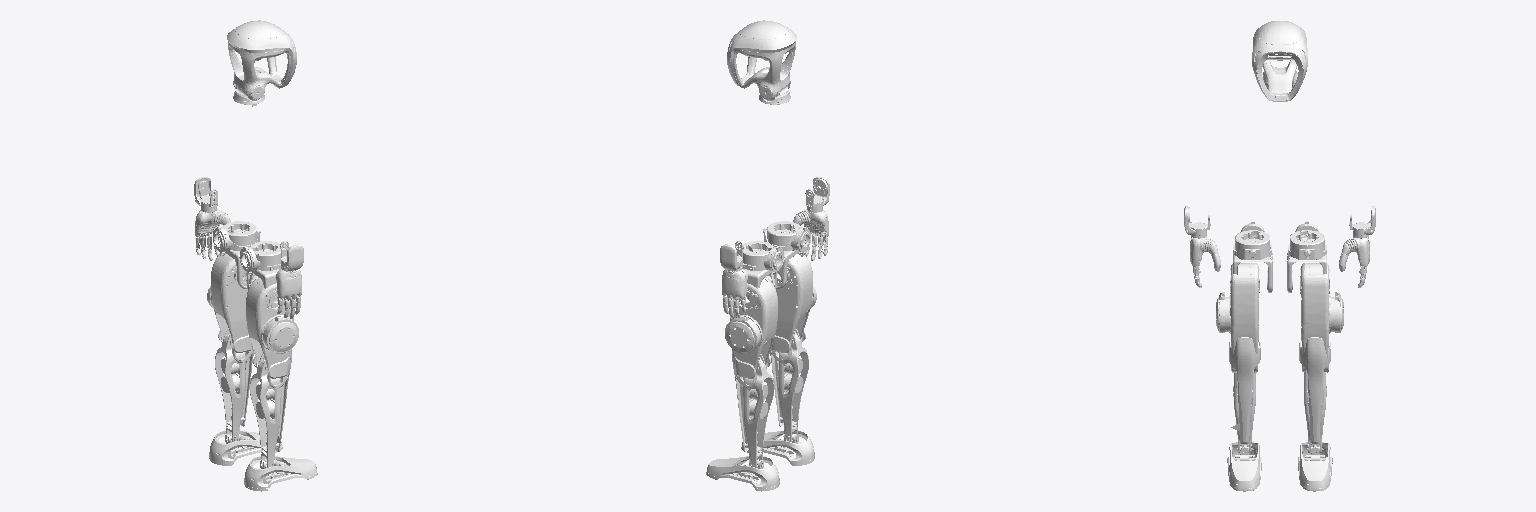
--- Facts derived from the render (not from the file) ---
3 views of the same robot in one strip: view 1: azimuth 30°, elevation 25°; view 2: azimuth 150°, elevation 25°; view 3: azimuth 270°, elevation 25° (orthographic).
Robot: biped_s40 — 46 links, 45 joints (28 revolute, 17 fixed); root link dummy_link; default pose: every joint at zero.
Visible links, largest first — view 1: zhead_2_link, leg_r3_link, leg_r4_link, leg_l4_link, leg_l3_link, leg_r6_link, zarm_l6_link, zarm_r6_link, leg_l6_link, leg_l1_link, leg_r1_link; view 2: zhead_2_link, leg_l3_link, leg_l4_link, leg_r4_link, leg_r3_link, leg_l6_link, zarm_r6_link, zarm_l6_link, leg_r6_link, leg_r1_link, leg_l1_link; view 3: zhead_2_link, leg_r3_link, leg_l3_link, leg_r4_link, leg_l4_link, leg_l6_link, leg_r6_link, zarm_r6_link, zarm_l6_link, leg_r1_link, leg_l1_link.
Boxes of the visible links, x1,y1,x2,y2 form: zhead_2_link: (227,20,296,100); leg_r3_link: (246,277,298,387); leg_r4_link: (250,354,291,467); leg_l4_link: (215,328,253,441); leg_l3_link: (207,253,252,362); leg_r6_link: (244,456,317,491); zarm_l6_link: (194,177,230,260); zarm_r6_link: (276,241,303,318); leg_l6_link: (209,431,282,465); leg_l1_link: (213,221,260,252); leg_r1_link: (240,241,281,271); zhead_2_link: (727,20,796,100); leg_l3_link: (725,277,777,388); leg_l4_link: (732,354,773,467); leg_r4_link: (770,328,808,441); leg_r3_link: (771,253,816,362); leg_l6_link: (706,456,779,491); zarm_r6_link: (793,177,829,260); zarm_l6_link: (720,241,747,318); leg_r6_link: (741,431,814,465); leg_r1_link: (763,221,810,252); leg_l1_link: (739,241,783,271); zhead_2_link: (1252,21,1307,101); leg_r3_link: (1216,263,1259,372); leg_l3_link: (1300,263,1343,372); leg_r4_link: (1229,337,1260,452); leg_l4_link: (1299,337,1330,452); leg_l6_link: (1298,442,1332,491); leg_r6_link: (1227,442,1261,491); zarm_r6_link: (1184,206,1220,287); zarm_l6_link: (1339,206,1375,287); leg_r1_link: (1233,221,1271,259); leg_l1_link: (1288,221,1326,259).
Bounding box of the posed robot: 0.2541 × 0.6121 × 1.57 m (x, y, z).
Meshes: 31 distinct files referenced, 16 mesh visuals loaded (16 binary STL); not drawn: 15 (reference not matched to a file when rendering).

The robot description file, URDF, robot "biped_s40":
<?xml version='1.0' encoding='utf-8'?>
<robot name="biped_s40">
  <mujoco>
    <compiler meshdir="../meshes/" balanceinertia="true" discardvisual="false" />
  </mujoco>
  <link name="dummy_link" />
  <link name="base_link">
    <inertial>
      <origin xyz="-0.00505 0.0014 0.18077" rpy="0 0 0" />
      <mass value="22.6719" />
      <inertia ixx="0.28214" ixy="3e-05" ixz="0.01114" iyy="0.20534" iyz="0.00044" izz="0.13735" />
    </inertial>
    <visual>
      <origin xyz="0 0 0" rpy="0 0 0" />
      <geometry>
        <mesh filename="package://kuavo_assets/models/biped_s40/meshes/base_link.STL" />
      </geometry>
      <material name="">
        <color rgba="1 1 1 1" />
      </material>
    </visual>
  </link>
  <joint name="dummy_to_base_link" type="fixed">
    <origin xyz="0 0 0" rpy="0 0 0" />
    <parent link="dummy_link" />
    <child link="base_link" />
    <dynamics damping="0.2" friction="0.0"/>
  </joint>
  <link name="leg_l1_link">
    <inertial>
      <origin xyz="-0.00624961 -5.6e-06 -0.00874166" rpy="0 0 0" />
      <mass value="1.79206533" />
      <inertia ixx="0.00211603" ixy="7.6e-07" ixz="0.000107" iyy="0.00302948" iyz="4.73e-06" izz="0.00399385" />
    </inertial>
    <visual>
      <origin xyz="0 0 0" rpy="0 0 0" />
      <geometry>
        <mesh filename="package://kuavo_assets/models/biped_s40/meshes/l_leg_roll.STL" />
      </geometry>
      <material name="">
        <color rgba="1 1 1 1" />
      </material>
    </visual>
  </link>
  <joint name="leg_l1_joint" type="revolute">
    <origin xyz="-0.0025 0.087 -0.066" rpy="0 0 0" />
    <parent link="base_link" />
    <child link="leg_l1_link" />
    <axis xyz="1 0 0" />
    <limit lower="-0.314159265358979" upper="0.663225115757845" effort="180.0" velocity="23.55" />
    <dynamics damping="0.2" friction="0.0"/>
  </joint>
  <link name="leg_l2_link">
    <inertial>
      <origin xyz="4.471e-05 0.04985881 -0.11682314" rpy="0 0 0" />
      <mass value="1.67630577" />
      <inertia ixx="0.00548763" ixy="-2.73e-06" ixz="-9.2e-07" iyy="0.0041542" iyz="0.00050833" izz="0.00426092" />
    </inertial>
    <visual>
      <origin xyz="0 0 0" rpy="0 0 0" />
      <geometry>
        <mesh filename="package://kuavo_assets/models/biped_s40/meshes/l_leg_yaw.STL" />
      </geometry>
      <material name="">
        <color rgba="1 1 1 1" />
      </material>
    </visual>
  </link>
  <joint name="leg_l2_joint" type="revolute">
    <origin xyz="0 0 0" rpy="0 0 0" />
    <parent link="leg_l1_link" />
    <child link="leg_l2_link" />
    <axis xyz="0 0 1" />
    <limit lower="-1.0471975511966" upper="0.523598775598299" effort="100.0" velocity="41.3433333333333" />
    <dynamics damping="0.5" friction="0.0"/>
  </joint>
  <link name="leg_l3_link">
    <inertial>
      <origin xyz="-0.00238348 -0.02309435 -0.06304956" rpy="0 0 0" />
      <mass value="2.46847" />
      <inertia ixx="0.02435272" ixy="4.518e-05" ixz="0.00123822" iyy="0.02479772" iyz="0.00261624" izz="0.00478829" />
    </inertial>
    <visual>
      <origin xyz="0 0 0" rpy="0 0 0" />
      <geometry>
        <mesh filename="package://kuavo_assets/models/biped_s40/meshes/l_leg_pitch.STL" />
      </geometry>
      <material name="">
        <color rgba="1 1 1 1" />
      </material>
    </visual>
  </link>
  <joint name="leg_l3_joint" type="revolute">
    <origin xyz="0 0.02545000000000 -0.1287" rpy="0 0 0" />
    <parent link="leg_l2_link" />
    <child link="leg_l3_link" />
    <axis xyz="0 1 0" />
    <limit lower="-1.83259571459405" upper="1.0471975511966" effort="100.0" velocity="41.3433333333333" />
    <dynamics damping="0.2" friction="0.0"/>
  </joint>
  <link name="leg_l4_link">
    <inertial>
      <origin xyz="0.00304104 -4.1e-05 -0.12213928" rpy="0 0 0" />
      <mass value="1.86452506" />
      <inertia ixx="0.01537791" ixy="7.85e-06" ixz="-0.00010781" iyy="0.01559985" iyz="-0.00015323" izz="0.00123021" />
    </inertial>
    <visual>
      <origin xyz="0 0 0" rpy="0 0 0" />
      <geometry>
        <mesh filename="package://kuavo_assets/models/biped_s40/meshes/l_knee.STL" />
      </geometry>
      <material name="">
        <color rgba="1 1 1 1" />
      </material>
    </visual>
  </link>
  <joint name="leg_l4_joint" type="revolute">
    <origin xyz="-0.010390161952608 0 -0.249783995753446" rpy="0 0 0" />
    <parent link="leg_l3_link" />
    <child link="leg_l4_link" />
    <axis xyz="0 1 0" />
    <limit lower="0.0" upper="2.18166156499291" effort="100.0" velocity="41.3433333333333" />
    <dynamics damping="0.2" friction="0.0"/>
  </joint>
  <link name="leg_l5_link">
    <inertial>
      <origin xyz="0.0 0.0 0.0" rpy="0 0 0" />
      <mass value="0.06923929" />
      <inertia ixx="6.66e-04" ixy="0.0" ixz="0.0" iyy="6.66e-04" iyz="0.0" izz="1.172e-04" />
    </inertial>
    <visual>
      <origin xyz="0 0 0" rpy="0 0 0" />
      <geometry>
        <mesh filename="package://kuavo_assets/models/biped_s40/meshes/l_foot_pitch.STL" />
      </geometry>
      <material name="">
        <color rgba="1 1 1 1" />
      </material>
    </visual>
  </link>
  <joint name="leg_l5_joint" type="revolute">
    <origin xyz="0 0 -0.346000000000004" rpy="0 0 0" />
    <parent link="leg_l4_link" />
    <child link="leg_l5_link" />
    <axis xyz="0 1 0" />
    <limit lower="-0.610865238198015" upper="0.523598775598299" effort="36.0" velocity="23.0266666666667" />
    <dynamics damping="0.2" friction="0.0"/>
  </joint>
  <link name="leg_l6_link">
    <inertial>
      <origin xyz="-0.00987056 -7.58e-06 -0.03365514" rpy="0 0 0" />
      <mass value="0.58358325" />
      <inertia ixx="0.0006342" ixy="1.4e-07" ixz="0.00031564" iyy="0.00227317" iyz="-2e-08" izz="0.00239382" />
    </inertial>
    <visual>
      <origin xyz="0 0 0" rpy="0 0 0" />
      <geometry>
        <mesh filename="package://kuavo_assets/models/biped_s40/meshes/l_foot_roll.STL" />
      </geometry>
      <material name="">
        <color rgba="1 1 1 1" />
      </material>
    </visual>
  </link>
  <joint name="leg_l6_joint" type="revolute">
    <origin xyz="0 0 0" rpy="0 0 0" />
    <parent link="leg_l5_link" />
    <child link="leg_l6_link" />
    <axis xyz="1 0 0" />
    <limit lower="-0.349065850398866" upper="0.349065850398866" effort="36.0" velocity="23.0266666666667" />
    <dynamics damping="0.2" friction="0.0"/>
  </joint>
  <link name="ll_foot_toe">
    <collision>
      <origin rpy="0 0 0" xyz="0 0 0" />
      <geometry>
        <sphere radius="0.005" />
      </geometry>
    </collision>
  </link>
  <joint name="ll_foot_toe_joint" type="fixed">
    <origin xyz="0.142507 0.04773 -0.0595" rpy="0 0 0" />
    <parent link="leg_l6_link" />
    <child link="ll_foot_toe" />
    <dynamics damping="0.2" friction="0.0"/>
  </joint>
  <link name="ll_foot_heel">
    <collision>
      <origin rpy="0 0 0" xyz="0 0 0" />
      <geometry>
        <sphere radius="0.005" />
      </geometry>
    </collision>
  </link>
  <joint name="ll_foot_heel_joint" type="fixed">
    <origin xyz="-0.10149 0.04773 -0.0595" rpy="0 0 0" />
    <parent link="leg_l6_link" />
    <child link="ll_foot_heel" />
    <dynamics damping="0.2" friction="0.0"/>
  </joint>
  <link name="lr_foot_toe">
    <collision>
      <origin rpy="0 0 0" xyz="0 0 0" />
      <geometry>
        <sphere radius="0.005" />
      </geometry>
    </collision>
  </link>
  <joint name="lr_foot_toe_joint" type="fixed">
    <origin xyz="0.142507 -0.04773 -0.0595" rpy="0 0 0" />
    <parent link="leg_l6_link" />
    <child link="lr_foot_toe" />
    <dynamics damping="0.2" friction="0.0"/>
  </joint>
  <link name="lr_foot_heel">
    <collision>
      <origin rpy="0 0 0" xyz="0 0 0" />
      <geometry>
        <sphere radius="0.005" />
      </geometry>
    </collision>
  </link>
  <joint name="lr_foot_heel_joint" type="fixed">
    <origin xyz="-0.10149 -0.04773 -0.0595" rpy="0 0 0" />
    <parent link="leg_l6_link" />
    <child link="lr_foot_heel" />
    <dynamics damping="0.2" friction="0.0"/>
  </joint>
  <link name="l_foot_toe">
    <collision>
      <origin rpy="0 0 0" xyz="0 0 0" />
      <geometry>
        <sphere radius="0.005" />
      </geometry>
    </collision>
  </link>
  <joint name="l_foot_toe_joint" type="fixed">
    <origin xyz="0.142507 0.0 -0.0595" rpy="0 0 0" />
    <parent link="leg_l6_link" />
    <child link="l_foot_toe" />
    <dynamics damping="0.2" friction="0.0"/>
  </joint>
  <link name="l_foot_heel">
    <collision>
      <origin rpy="0 0 0" xyz="0 0 0" />
      <geometry>
        <sphere radius="0.005" />
      </geometry>
    </collision>
  </link>
  <joint name="l_foot_heel_joint" type="fixed">
    <origin xyz="-0.10149 0.0 -0.0595" rpy="0 0 0" />
    <parent link="leg_l6_link" />
    <child link="l_foot_heel" />
    <dynamics damping="0.2" friction="0.0"/>
  </joint>
  <link name="leg_r1_link">
    <inertial>
      <origin xyz="-0.00624961 5.65e-06 -0.00874165" rpy="0 0 0" />
      <mass value="1.79206572" />
      <inertia ixx="0.00211603" ixy="-7.6e-07" ixz="0.000107" iyy="0.00302948" iyz="-4.73e-06" izz="0.00399385" />
    </inertial>
    <visual>
      <origin xyz="0 0 0" rpy="0 0 0" />
      <geometry>
        <mesh filename="package://kuavo_assets/models/biped_s40/meshes/r_leg_roll.STL" />
      </geometry>
      <material name="">
        <color rgba="1 1 1 1" />
      </material>
    </visual>
  </link>
  <joint name="leg_r1_joint" type="revolute">
    <origin xyz="-0.0025 -0.087 -0.066" rpy="0 0 0" />
    <parent link="base_link" />
    <child link="leg_r1_link" />
    <axis xyz="1 0 0" />
    <limit lower="-0.663225115757845" upper="0.314159265358979" effort="180.0" velocity="23.55" />
    <dynamics damping="0.2" friction="0.0"/>
  </joint>
  <link name="leg_r2_link">
    <inertial>
      <origin xyz="4.471e-05 -0.04985878 -0.11682313" rpy="0 0 0" />
      <mass value="1.67630636" />
      <inertia ixx="0.00548764" ixy="2.73e-06" ixz="-9.2e-07" iyy="0.00415421" iyz="-0.00050832" izz="0.00426093" />
    </inertial>
    <visual>
      <origin xyz="0 0 0" rpy="0 0 0" />
      <geometry>
        <mesh filename="package://kuavo_assets/models/biped_s40/meshes/r_leg_yaw.STL" />
      </geometry>
      <material name="">
        <color rgba="1 1 1 1" />
      </material>
    </visual>
  </link>
  <joint name="leg_r2_joint" type="revolute">
    <origin xyz="0 0 0" rpy="0 0 0" />
    <parent link="leg_r1_link" />
    <child link="leg_r2_link" />
    <axis xyz="0 0 1" />
    <limit lower="-0.523598775598299" upper="1.0471975511966" effort="100.0" velocity="41.3433333333333" />
    <dynamics damping="0.5" friction="0.0"/>
  </joint>
  <link name="leg_r3_link">
    <inertial>
      <origin xyz="-0.00238153 0.02309009 -0.06305853" rpy="0 0 0" />
      <mass value="2.46916674" />
      <inertia ixx="0.02435155" ixy="-4.518e-05" ixz="0.00123747" iyy="0.02479853" iyz="-0.00261573" izz="0.0047908" />
    </inertial>
    <visual>
      <origin xyz="0 0 0" rpy="0 0 0" />
      <geometry>
        <mesh filename="package://kuavo_assets/models/biped_s40/meshes/r_leg_pitch.STL" />
      </geometry>
      <material name="">
        <color rgba="1 1 1 1" />
      </material>
    </visual>
  </link>
  <joint name="leg_r3_joint" type="revolute">
    <origin xyz="0 -0.02545000000000 -0.1287" rpy="0 0 0" />
    <parent link="leg_r2_link" />
    <child link="leg_r3_link" />
    <axis xyz="0 1 0" />
    <limit lower="-1.83259571459405" upper="1.0471975511966" effort="100.0" velocity="41.3433333333333" />
    <dynamics damping="0.2" friction="0.0"/>
  </joint>
  <link name="leg_r4_link">
    <inertial>
      <origin xyz="0.00304109 4.102e-05 -0.12213983" rpy="0 0 0" />
      <mass value="1.86454133" />
      <inertia ixx="0.01537809" ixy="-7.85e-06" ixz="-0.00010779" iyy="0.01560001" iyz="0.00015322" izz="0.00123022" />
    </inertial>
    <visual>
      <origin xyz="0 0 0" rpy="0 0 0" />
      <geometry>
        <mesh filename="package://kuavo_assets/models/biped_s40/meshes/r_knee.STL" />
      </geometry>
      <material name="">
        <color rgba="1 1 1 1" />
      </material>
    </visual>
  </link>
  <joint name="leg_r4_joint" type="revolute">
    <origin xyz="-0.0103901619526017 0 -0.249783995753447" rpy="0 0 0" />
    <parent link="leg_r3_link" />
    <child link="leg_r4_link" />
    <axis xyz="0 1 0" />
    <limit lower="0.0" upper="2.18166156499291" effort="100.0" velocity="41.3433333333333" />
    <dynamics damping="0.2" friction="0.0"/>
  </joint>
  <link name="leg_r5_link">
    <inertial>
      <origin xyz="0.0 0.0 0.0" rpy="0 0 0" />
      <mass value="0.06923929" />
      <inertia ixx="6.66e-04" ixy="0.0" ixz="0.0" iyy="6.66e-04" iyz="0.0" izz="1.172e-04" />
    </inertial>
    <visual>
      <origin xyz="0 0 0" rpy="0 0 0" />
      <geometry>
        <mesh filename="package://kuavo_assets/models/biped_s40/meshes/r_foot_pitch.STL" />
      </geometry>
      <material name="">
        <color rgba="1 1 1 1" />
      </material>
    </visual>
  </link>
  <joint name="leg_r5_joint" type="revolute">
    <origin xyz="0 0 -0.346000000000011" rpy="0 0 0" />
    <parent link="leg_r4_link" />
    <child link="leg_r5_link" />
    <axis xyz="0 1 0" />
    <limit lower="-0.523598775598299" upper="0.523598775598299" effort="36.0" velocity="23.0266666666667" />
    <dynamics damping="0.2" friction="0.0"/>
  </joint>
  <link name="leg_r6_link">
    <inertial>
      <origin xyz="-0.00987049 7.65e-06 -0.03365512" rpy="0 0 0" />
      <mass value="0.58358273" />
      <inertia ixx="0.0006342" ixy="-1.4e-07" ixz="0.00031564" iyy="0.00227317" iyz="2e-08" izz="0.00239382" />
    </inertial>
    <visual>
      <origin xyz="0 0 0" rpy="0 0 0" />
      <geometry>
        <mesh filename="package://kuavo_assets/models/biped_s40/meshes/r_foot_roll.STL" />
      </geometry>
      <material name="">
        <color rgba="1 1 1 1" />
      </material>
    </visual>
  </link>
  <joint name="leg_r6_joint" type="revolute">
    <origin xyz="0 0 0" rpy="0 0 0" />
    <parent link="leg_r5_link" />
    <child link="leg_r6_link" />
    <axis xyz="1 0 0" />
    <limit lower="-0.349065850398866" upper="0.349065850398866" effort="36.0" velocity="23.0266666666667" />
    <dynamics damping="0.2" friction="0.0"/>
  </joint>
  <link name="rl_foot_toe">
    <collision>
      <origin rpy="0 0 0" xyz="0 0 0" />
      <geometry>
        <sphere radius="0.005" />
      </geometry>
    </collision>
  </link>
  <joint name="rl_foot_toe_joint" type="fixed">
    <origin xyz="0.142507 0.04773 -0.0595" rpy="0 0 0" />
    <parent link="leg_r6_link" />
    <child link="rl_foot_toe" />
    <dynamics damping="0.2" friction="0.0"/>
  </joint>
  <link name="rl_foot_heel">
    <collision>
      <origin rpy="0 0 0" xyz="0 0 0" />
      <geometry>
        <sphere radius="0.005" />
      </geometry>
    </collision>
  </link>
  <joint name="rl_foot_heel_joint" type="fixed">
    <origin xyz="-0.10149 0.04773 -0.0595" rpy="0 0 0" />
    <parent link="leg_r6_link" />
    <child link="rl_foot_heel" />
    <dynamics damping="0.2" friction="0.0"/>
  </joint>
  <link name="rr_foot_toe">
    <collision>
      <origin rpy="0 0 0" xyz="0 0 0" />
      <geometry>
        <sphere radius="0.005" />
      </geometry>
    </collision>
  </link>
  <joint name="rr_foot_toe_joint" type="fixed">
    <origin xyz="0.142507 -0.04773 -0.0595" rpy="0 0 0" />
    <parent link="leg_r6_link" />
    <child link="rr_foot_toe" />
    <dynamics damping="0.2" friction="0.0"/>
  </joint>
  <link name="rr_foot_heel">
    <collision>
      <origin rpy="0 0 0" xyz="0 0 0" />
      <geometry>
        <sphere radius="0.005" />
      </geometry>
    </collision>
  </link>
  <joint name="rr_foot_heel_joint" type="fixed">
    <origin xyz="-0.10149 -0.04773 -0.0595" rpy="0 0 0" />
    <parent link="leg_r6_link" />
    <child link="rr_foot_heel" />
    <dynamics damping="0.2" friction="0.0"/>
  </joint>
  <link name="r_foot_toe">
    <collision>
      <origin rpy="0 0 0" xyz="0 0 0" />
      <geometry>
        <sphere radius="0.005" />
      </geometry>
    </collision>
  </link>
  <joint name="r_foot_toe_joint" type="fixed">
    <origin xyz="0.142507 0.0 -0.0595" rpy="0 0 0" />
    <parent link="leg_r6_link" />
    <child link="r_foot_toe" />
    <dynamics damping="0.2" friction="0.0"/>
  </joint>
  <link name="r_foot_heel">
    <collision>
      <origin rpy="0 0 0" xyz="0 0 0" />
      <geometry>
        <sphere radius="0.005" />
      </geometry>
    </collision>
  </link>
  <joint name="r_foot_heel_joint" type="fixed">
    <origin xyz="-0.10149 0.0 -0.0595" rpy="0 0 0" />
    <parent link="leg_r6_link" />
    <child link="r_foot_heel" />
    <dynamics damping="0.2" friction="0.0"/>
  </joint>
  <link name="zarm_l1_link">
    <inertial>
      <origin xyz="0.008 -0.00158 0.0036" rpy="0 0 0" />
      <mass value="1.15" />
      <inertia ixx="0.0006" ixy="5e-05" ixz="1e-05" iyy="0.00048" iyz="-6e-05" izz="0.0007" />
    </inertial>
    <visual>
      <origin xyz="0 0 0" rpy="0 0 0" />
      <geometry>
        <mesh filename="package://kuavo_assets/models/biped_s40/meshes/l_arm_pitch.STL" />
      </geometry>
      <material name="">
        <color rgba="1 1 1 1" />
      </material>
    </visual>
  </link>
  <joint name="zarm_l1_joint" type="revolute">
    <origin xyz="-0.0175 0.25886 0.3245" rpy="0 0 0" />
    <parent link="base_link" />
    <child link="zarm_l1_link" />
    <axis xyz="0 1 0" />
    <limit lower="-2.61799387799149" upper="0.523598775598299" effort="100.0" velocity="41.3433333333333" />
    <dynamics damping="0.2" friction="0.0"/>
  </joint>
  <link name="zarm_l2_link">
    <inertial>
      <origin xyz="0.00144 0.02159 -0.0202" rpy="0 0 0" />
      <mass value="0.226" />
      <inertia ixx="0.0003" ixy="3e-05" ixz="1e-05" iyy="0.00061" iyz="5e-05" izz="0.00057" />
    </inertial>
    <visual>
      <origin xyz="0 0 0" rpy="0 0 0" />
      <geometry>
        <mesh filename="package://kuavo_assets/models/biped_s40/meshes/l_arm_roll.STL" />
      </geometry>
      <material name="">
        <color rgba="1 1 1 1" />
      </material>
    </visual>
  </link>
  <joint name="zarm_l2_joint" type="revolute">
    <origin xyz="0 0 0" rpy="0 0 0" />
    <parent link="zarm_l1_link" />
    <child link="zarm_l2_link" />
    <axis xyz="1 0 0" />
    <limit lower="-0.349065850398866" upper="2.0943951023932" effort="50.0" velocity="19.154" />
    <dynamics damping="0.2" friction="0.0"/>
  </joint>
  <link name="zarm_l3_link">
    <inertial>
      <origin xyz="-0.00157 -3e-05 -0.13318" rpy="0 0 0" />
      <mass value="1.166" />
      <inertia ixx="0.00245" ixy="-1e-05" ixz="-1e-05" iyy="0.0022" iyz="0.0" izz="0.00112" />
    </inertial>
    <visual>
      <origin xyz="0 0 0" rpy="0 0 0" />
      <geometry>
        <mesh filename="package://kuavo_assets/models/biped_s40/meshes/l_arm_yaw.STL" />
      </geometry>
      <material name="">
        <color rgba="1 1 1 1" />
      </material>
    </visual>
  </link>
  <joint name="zarm_l3_joint" type="revolute">
    <origin xyz="0 0 0" rpy="0 0 0" />
    <parent link="zarm_l2_link" />
    <child link="zarm_l3_link" />
    <axis xyz="0 0 1" />
    <limit lower="-1.5707963267949" upper="1.5707963267949" effort="20.0" velocity="18.84" />
    <dynamics damping="0.2" friction="0.0"/>
  </joint>
  <link name="zarm_l4_link">
    <inertial>
      <origin xyz="-4e-05 0.0098 -0.05283" rpy="0 0 0" />
      <mass value="0.575" />
      <inertia ixx="0.00098" ixy="0.0" ixz="0.0" iyy="0.00062" iyz="-0.00016" izz="0.00088" />
    </inertial>
    <visual>
      <origin xyz="0 0 0" rpy="0 0 0" />
      <geometry>
        <mesh filename="package://kuavo_assets/models/biped_s40/meshes/l_forearm.STL" />
      </geometry>
      <material name="">
        <color rgba="1 1 1 1" />
      </material>
    </visual>
  </link>
  <joint name="zarm_l4_joint" type="revolute">
    <origin xyz="0 0 -0.1646" rpy="0 0 0" />
    <parent link="zarm_l3_link" />
    <child link="zarm_l4_link" />
    <axis xyz="0 1 0" />
    <limit lower="-1.5707963267949" upper="0.0" effort="20.0" velocity="18.84" />
    <dynamics damping="0.2" friction="0.0"/>
  </joint>
  <link name="zarm_l5_link">
    <inertial>
      <origin xyz="-0.00011 0.00421 -0.11168" rpy="0 0 0" />
      <mass value="0.46" />
      <inertia ixx="0.00077" ixy="0.0" ixz="0.0" iyy="0.0005" iyz="-4e-05" izz="0.00063" />
    </inertial>
    <visual>
      <origin xyz="0 0 0" rpy="0 0 0" />
      <geometry>
        <mesh filename="package://kuavo_assets/models/biped_s40/meshes/l_hand_yaw.STL" />
      </geometry>
      <material name="">
        <color rgba="1 1 1 1" />
      </material>
    </visual>
  </link>
  <joint name="zarm_l5_joint" type="revolute">
    <origin xyz="0 0 0" rpy="0 0 0" />
    <parent link="zarm_l4_link" />
    <child link="zarm_l5_link" />
    <axis xyz="0 0 1" />
    <limit lower="-1.5707963267949" upper="1.5707963267949" effort="6.0" velocity="21.666" />
    <dynamics damping="0.2" friction="0.0"/>
  </joint>
  <link name="zarm_l6_link">
    <inertial>
      <origin xyz="0.00253 0.00382 -0.05356" rpy="0 0 0" />
      <mass value="0.35" />
      <inertia ixx="0.00023" ixy="0.0" ixz="0.0" iyy="0.00024" iyz="-4e-05" izz="0.00019" />
    </inertial>
    <visual>
      <origin xyz="0 0 0" rpy="0 0 0" />
      <geometry>
        <mesh filename="package://kuavo_assets/models/biped_s40/meshes/l_hand_pitch.STL" />
      </geometry>
      <material name="">
        <color rgba="1 1 1 1" />
      </material>
    </visual>
  </link>
  <joint name="zarm_l6_joint" type="revolute">
    <origin xyz="0 0 -0.132050000125748" rpy="0 0 0" />
    <parent link="zarm_l5_link" />
    <child link="zarm_l6_link" />
    <axis xyz="0 1 0" />
    <limit lower="-1.5707963267949" upper="1.5707963267949" effort="6.0" velocity="21.666" />
    <dynamics damping="0.2" friction="0.0"/>
  </joint>
  <link name="zarm_l7_link">
    <inertial>
      <origin xyz="0.00267 0.00748 -0.07162" rpy="0 0 0" />
      <mass value="0.81" />
      <inertia ixx="0.00117" ixy="2e-05" ixz="0.0" iyy="0.00128" iyz="-2e-05" izz="0.00036" />
    </inertial>
    <visual>
      <origin xyz="0 0 0" rpy="0 0 0" />
      <geometry>
        <mesh filename="package://kuavo_assets/models/biped_s40/meshes/l_hand_roll.STL" />
      </geometry>
      <material name="">
        <color rgba="1 1 1 1" />
      </material>
    </visual>
  </link>
  <joint name="zarm_l7_joint" type="revolute">
    <origin xyz="0 0 -0.0589999999999999" rpy="0 0 0" />
    <parent link="zarm_l6_link" />
    <child link="zarm_l7_link" />
    <axis xyz="1 0 0" />
    <limit lower="-1.5707963267949" upper="1.5707963267949" effort="6.0" velocity="21.666" />
    <dynamics damping="0.2" friction="0.0"/>
  </joint>
  <link name="zarm_l7_end_effector">
    <collision>
      <origin rpy="0 0 0" xyz="0 0 0" />
      <geometry>
        <sphere radius="0.005" />
      </geometry>
    </collision>
  </link>
  <joint name="zarm_l7_end_effector_joint" type="fixed">
    <origin xyz="0 -0.03 -0.17" rpy="0 0 0" />
    <parent link="zarm_l7_link" />
    <child link="zarm_l7_end_effector" />
    <dynamics damping="0.2" friction="0.0"/>
  </joint>
  <link name="zarm_r1_link">
    <inertial>
      <origin xyz="0.008 0.00158 -0.0036" rpy="0 0 0" />
      <mass value="1.15" />
      <inertia ixx="0.0006" ixy="-5e-05" ixz="-1e-05" iyy="0.00048" iyz="-6e-05" izz="0.0007" />
    </inertial>
    <visual>
      <origin xyz="0 0 0" rpy="0 0 0" />
      <geometry>
        <mesh filename="package://kuavo_assets/models/biped_s40/meshes/r_arm_pitch.STL" />
      </geometry>
      <material name="">
        <color rgba="1 1 1 1" />
      </material>
    </visual>
  </link>
  <joint name="zarm_r1_joint" type="revolute">
    <origin xyz="-0.0175 -0.25886 0.3245" rpy="0 0 0" />
    <parent link="base_link" />
    <child link="zarm_r1_link" />
    <axis xyz="0 1 0" />
    <limit lower="-2.61799387799149" upper="0.523598775598299" effort="100.0" velocity="41.3433333333333" />
    <dynamics damping="0.2" friction="0.0"/>
  </joint>
  <link name="zarm_r2_link">
    <inertial>
      <origin xyz="0.00144 -0.02159 -0.02021" rpy="0 0 0" />
      <mass value="0.226" />
      <inertia ixx="0.0003" ixy="-3e-05" ixz="1e-05" iyy="0.00061" iyz="-5e-05" izz="0.00057" />
    </inertial>
    <visual>
      <origin xyz="0 0 0" rpy="0 0 0" />
      <geometry>
        <mesh filename="package://kuavo_assets/models/biped_s40/meshes/r_arm_roll.STL" />
      </geometry>
      <material name="">
        <color rgba="1 1 1 1" />
      </material>
    </visual>
  </link>
  <joint name="zarm_r2_joint" type="revolute">
    <origin xyz="0 0 0" rpy="0 0 0" />
    <parent link="zarm_r1_link" />
    <child link="zarm_r2_link" />
    <axis xyz="1 0 0" />
    <limit lower="-2.0943951023932" upper="0.349065850398866" effort="50.0" velocity="19.154" />
    <dynamics damping="0.2" friction="0.0"/>
  </joint>
  <link name="zarm_r3_link">
    <inertial>
      <origin xyz="-0.00157 3e-05 -0.13318" rpy="0 0 0" />
      <mass value="1.166" />
      <inertia ixx="0.00245" ixy="1e-05" ixz="-1e-05" iyy="0.0022" iyz="0.0" izz="0.00112" />
    </inertial>
    <visual>
      <origin xyz="0 0 0" rpy="0 0 0" />
      <geometry>
        <mesh filename="package://kuavo_assets/models/biped_s40/meshes/r_arm_yaw.STL" />
      </geometry>
      <material name="">
        <color rgba="1 1 1 1" />
      </material>
    </visual>
  </link>
  <joint name="zarm_r3_joint" type="revolute">
    <origin xyz="0 0 0" rpy="0 0 0" />
    <parent link="zarm_r2_link" />
    <child link="zarm_r3_link" />
    <axis xyz="0 0 1" />
    <limit lower="-1.5707963267949" upper="1.5707963267949" effort="20.0" velocity="18.84" />
    <dynamics damping="0.2" friction="0.0"/>
  </joint>
  <link name="zarm_r4_link">
    <inertial>
      <origin xyz="-4e-05 -0.0098 -0.05283" rpy="0 0 0" />
      <mass value="0.575" />
      <inertia ixx="0.00098" ixy="0.0" ixz="0.0" iyy="0.00062" iyz="0.00016" izz="0.00088" />
    </inertial>
    <visual>
      <origin xyz="0 0 0" rpy="0 0 0" />
      <geometry>
        <mesh filename="package://kuavo_assets/models/biped_s40/meshes/r_forearm.STL" />
      </geometry>
      <material name="">
        <color rgba="1 1 1 1" />
      </material>
    </visual>
  </link>
  <joint name="zarm_r4_joint" type="revolute">
    <origin xyz="0 0 -0.1646" rpy="0 0 0" />
    <parent link="zarm_r3_link" />
    <child link="zarm_r4_link" />
    <axis xyz="0 1 0" />
    <limit lower="-1.5707963267949" upper="0.0" effort="20.0" velocity="18.84" />
    <dynamics damping="0.2" friction="0.0"/>
  </joint>
  <link name="zarm_r5_link">
    <inertial>
      <origin xyz="-0.00011 -0.00421 -0.11168" rpy="0 0 0" />
      <mass value="0.46" />
      <inertia ixx="0.00077" ixy="0.0" ixz="0.0" iyy="0.0005" iyz="4e-05" izz="0.00063" />
    </inertial>
    <visual>
      <origin xyz="0 0 0" rpy="0 0 0" />
      <geometry>
        <mesh filename="package://kuavo_assets/models/biped_s40/meshes/r_hand_yaw.STL" />
      </geometry>
      <material name="">
        <color rgba="1 1 1 1" />
      </material>
    </visual>
  </link>
  <joint name="zarm_r5_joint" type="revolute">
    <origin xyz="0 0 0" rpy="0 0 0" />
    <parent link="zarm_r4_link" />
    <child link="zarm_r5_link" />
    <axis xyz="0 0 1" />
    <limit lower="-1.5707963267949" upper="1.5707963267949" effort="6.0" velocity="21.666" />
    <dynamics damping="0.2" friction="0.0"/>
  </joint>
  <link name="zarm_r6_link">
    <inertial>
      <origin xyz="0.00253 -0.00382 -0.05356" rpy="0 0 0" />
      <mass value="0.35" />
      <inertia ixx="0.00023" ixy="0.0" ixz="0.0" iyy="0.00024" iyz="4e-05" izz="0.00019" />
    </inertial>
    <visual>
      <origin xyz="0 0 0" rpy="0 0 0" />
      <geometry>
        <mesh filename="package://kuavo_assets/models/biped_s40/meshes/r_hand_pitch.STL" />
      </geometry>
      <material name="">
        <color rgba="1 1 1 1" />
      </material>
    </visual>
  </link>
  <joint name="zarm_r6_joint" type="revolute">
    <origin xyz="0 0 -0.132050000240097" rpy="0 0 0" />
    <parent link="zarm_r5_link" />
    <child link="zarm_r6_link" />
    <axis xyz="0 1 0" />
    <limit lower="-1.5707963267949" upper="1.5707963267949" effort="6.0" velocity="21.666" />
    <dynamics damping="0.2" friction="0.0"/>
  </joint>
  <link name="zarm_r7_link">
    <inertial>
      <origin xyz="0.00267 -0.00748 -0.07162" rpy="0 0 0" />
      <mass value="0.81" />
      <inertia ixx="0.00098" ixy="-1e-05" ixz="1e-05" iyy="0.00104" iyz="1e-05" izz="0.00027" />
    </inertial>
    <visual>
      <origin xyz="0 0 0" rpy="0 0 0" />
      <geometry>
        <mesh filename="package://kuavo_assets/models/biped_s40/meshes/r_hand_roll.STL" />
      </geometry>
      <material name="">
        <color rgba="1 1 1 1" />
      </material>
    </visual>
  </link>
  <joint name="zarm_r7_joint" type="revolute">
    <origin xyz="0 0 -0.0589999999999999" rpy="0 0 0" />
    <parent link="zarm_r6_link" />
    <child link="zarm_r7_link" />
    <axis xyz="1 0 0" />
    <limit lower="-1.5707963267949" upper="1.5707963267949" effort="6.0" velocity="21.666" />
    <dynamics damping="0.2" friction="0.0"/>
  </joint>
  <link name="zarm_r7_end_effector">
    <collision>
      <origin rpy="0 0 0" xyz="0 0 0" />
      <geometry>
        <sphere radius="0.005" />
      </geometry>
    </collision>
  </link>
  <joint name="zarm_r7_end_effector_joint" type="fixed">
    <origin xyz="0 0.03 -0.17" rpy="0 0 0" />
    <parent link="zarm_r7_link" />
    <child link="zarm_r7_end_effector" />
    <dynamics damping="0.2" friction="0.0"/>
  </joint>
  <link name="zhead_1_link">
    <inertial>
      <origin xyz="0.0 0.01245 -0.02982" rpy="0 0 0" />
      <mass value="0.082" />
      <inertia ixx="7e-05" ixy="0.0" ixz="0.0" iyy="6e-05" iyz="-2e-05" izz="8e-05" />
    </inertial>
    <visual>
      <origin xyz="0 0 0" rpy="0 0 0" />
      <geometry>
        <mesh filename="package://kuavo_assets/models/biped_s40/meshes/head_yaw.STL" />
      </geometry>
      <material name="">
        <color rgba="1 1 1 1" />
      </material>
    </visual>
  </link>
  <joint name="zhead_1_joint" type="revolute">
    <origin xyz="-0.0175 0.0 0.5014" rpy="0 0 0" />
    <parent link="base_link" />
    <child link="zhead_1_link" />
    <axis xyz="0 0 1" />
    <limit lower="-1.5707963267949" upper="1.5707963267949" effort="1.5" velocity="5.23333333333333" />
    <dynamics damping="0.2" friction="0.0"/>
  </joint>
  <link name="zhead_2_link">
    <inertial>
      <origin xyz="0.01106 0.00069 0.0586" rpy="0 0 0" />
      <mass value="1.379" />
      <inertia ixx="0.003" ixy="1e-05" ixz="0.0003" iyy="0.00301" iyz="5e-05" izz="0.00281" />
    </inertial>
    <visual>
      <origin xyz="0 0 0" rpy="0 0 0" />
      <geometry>
        <mesh filename="package://kuavo_assets/models/biped_s40/meshes/head_pitch.STL" />
      </geometry>
      <material name="">
        <color rgba="1 1 1 1" />
      </material>
    </visual>
  </link>
  <joint name="zhead_2_joint" type="revolute">
    <origin xyz="0 0 0" rpy="0 0 0" />
    <parent link="zhead_1_link" />
    <child link="zhead_2_link" />
    <axis xyz="0 1 0" />
    <limit lower="-0.523598775598299" upper="0.523598775598299" effort="6.0" velocity="9.734" />
    <dynamics damping="0.2" friction="0.0"/>
  </joint>
  <link name="camera">
    <inertial>
      <origin xyz="-0.04336 -0.01736 -0.01161" rpy="0 0 0" />
      <mass value="0.047" />
      <inertia ixx="0.00065" ixy="0.0" ixz="0.00015" iyy="0.00091" iyz="0.0" izz="0.00105" />
    </inertial>
    <visual>
      <origin xyz="0 0 0" rpy="0 0 0" />
      <geometry>
        <mesh filename="package://kuavo_assets/models/biped_s40/meshes/camera.STL" />
      </geometry>
      <material name="">
        <color rgba="1 1 1 1" />
      </material>
    </visual>
  </link>
  <joint name="camera" type="fixed">
    <origin xyz="0.0919101155958193 0.0175000000022731 0.0617838754768194" rpy="0 0.610865238198013 0" />
    <parent link="zhead_2_link" />
    <child link="camera" />
    <dynamics damping="0.2" friction="0.0"/>
  </joint>

  <link
    name="camera_base">
    <inertial>
      <origin
        xyz="0.00354055612698423 0.00140393663616134 0.0124511788327371"
        rpy="0 0 0" />
      <mass
        value="0.0170255961584929" />
      <inertia
        ixx="1.09182620877589E-05"
        ixy="1.05354237503678E-07"
        ixz="1.05871360812799E-08"
        iyy="8.57178923448405E-07"
        iyz="1.6401848102306E-08"
        izz="1.02869873531782E-05" />
    </inertial>
    <visual>
      <origin
        xyz="0 0 0"
        rpy="0 0 0" />
      <geometry>
        <mesh
          filename="package://kuavo_assets/models/biped_s40/meshes/camera_base.STL" />
      </geometry>
      <material
        name="">
        <color
          rgba="1 1 1 1" />
      </material>
    </visual>
    <collision>
      <origin
        xyz="0 0 0"
        rpy="0 0 0" />
      <geometry>
        <mesh
          filename="package://kuavo_assets/models/biped_s40/meshes/camera_base.STL" />
      </geometry>
    </collision>
  </link>
  <joint
    name="camera_base"
    type="fixed">
    <origin
      xyz="0.0766792844154498 0 0.0571889355165869"
      rpy="0 0.610865238198013 0" />
    <parent
      link="zhead_2_link" />
    <child
      link="camera_base" />
  </joint>

  <!-- 在原有的gazebo插件配置后添加 -->
  <!-- 真值 -->
  <gazebo>
    <plugin filename="libgazebo_ros_p3d.so" name="p3d_base_controller">
      <alwaysOn>true</alwaysOn>
      <updateRate>500.0</updateRate>
      <bodyName>dummy_link</bodyName>
      <topicName>ground_truth/state</topicName>
      <gaussianNoise>0</gaussianNoise>
      <frameName>world</frameName>
      <xyzOffsets>0 0 0</xyzOffsets>
      <rpyOffsets>0 0 0</rpyOffsets>
    </plugin>
  </gazebo>

  <!-- 左脚 -->
  <gazebo reference="leg_l6_link">
    <mu1>1.5</mu1>
    <mu2>2.5</mu2>
    <self_collide>1</self_collide>
    <kp value="1000000.0"/>
    <kd value="100.0"/>
    <maxVel>3</maxVel>
    <minDepth>0.00</minDepth>
  </gazebo>
  <gazebo reference="l_foot_heel">
    <mu1>1.5</mu1>
    <mu2>2.5</mu2>
    <self_collide>1</self_collide>
    <kp value="1000000.0"/>
    <kd value="100.0"/>
    <maxVel>3</maxVel>
    <minDepth>0.00</minDepth>
  </gazebo>
  <gazebo reference="l_foot_toe">
    <mu1>1.5</mu1>
    <mu2>2.5</mu2>
    <self_collide>1</self_collide>
    <kp value="1000000.0"/>
    <kd value="100.0"/>
    <maxVel>3</maxVel>
    <minDepth>0.00</minDepth>
  </gazebo>
  <gazebo reference="lr_foot_heel">
    <mu1>1.5</mu1>
    <mu2>2.5</mu2>
    <self_collide>1</self_collide>
    <kp value="1000000.0"/>
    <kd value="100.0"/>
    <maxVel>3</maxVel>
    <minDepth>0.00</minDepth>
  </gazebo>
  <gazebo reference="lr_foot_toe">
    <mu1>1.5</mu1>
    <mu2>2.5</mu2>
    <self_collide>1</self_collide>
    <kp value="1000000.0"/>
    <kd value="100.0"/>
    <maxVel>3</maxVel>
    <minDepth>0.00</minDepth>
  </gazebo>
  <gazebo reference="ll_foot_heel">
    <mu1>1.5</mu1>
    <mu2>2.5</mu2>
    <self_collide>1</self_collide>
    <kp value="1000000.0"/>
    <kd value="100.0"/>
    <maxVel>3</maxVel>
    <minDepth>0.00</minDepth>
  </gazebo>
  <gazebo reference="ll_foot_toe">
    <mu1>1.5</mu1>
    <mu2>2.5</mu2>
    <self_collide>1</self_collide>
    <kp value="1000000.0"/>
    <kd value="100.0"/>
    <maxVel>3</maxVel>
    <minDepth>0.00</minDepth>
  </gazebo>

  <!-- 右脚 -->
  <gazebo reference="leg_r6_link">
    <mu1>1.5</mu1>
    <mu2>2.5</mu2>
    <self_collide>1</self_collide>
    <kp value="1000000.0"/>
    <kd value="100.0"/>
    <maxVel>3</maxVel>
    <minDepth>0.00</minDepth>
  </gazebo>
  <gazebo reference="r_foot_heel">
    <mu1>1.5</mu1>
    <mu2>2.5</mu2>
    <self_collide>1</self_collide>
    <kp value="1000000.0"/>
    <kd value="100.0"/>
    <maxVel>3</maxVel>
    <minDepth>0.00</minDepth>
  </gazebo>
  <gazebo reference="r_foot_toe">
    <mu1>1.5</mu1>
    <mu2>2.5</mu2>
    <self_collide>1</self_collide>
    <kp value="1000000.0"/>
    <kd value="100.0"/>
    <maxVel>3</maxVel>
    <minDepth>0.00</minDepth>
  </gazebo>
  <gazebo reference="rl_foot_toe">
    <mu1>1.5</mu1>
    <mu2>2.5</mu2>
    <self_collide>1</self_collide>
    <kp value="1000000.0"/>
    <kd value="100.0"/>
    <maxVel>3</maxVel>
    <minDepth>0.00</minDepth>
  </gazebo>
  <gazebo reference="rl_foot_heel">
    <mu1>1.5</mu1>
    <mu2>2.5</mu2>
    <self_collide>1</self_collide>
    <kp value="1000000.0"/>
    <kd value="100.0"/>
    <maxVel>3</maxVel>
    <minDepth>0.00</minDepth>
  </gazebo>
  <gazebo reference="rr_foot_toe">
    <mu1>1.5</mu1>
    <mu2>2.5</mu2>
    <self_collide>1</self_collide>
    <kp value="1000000.0"/>
    <kd value="100.0"/>
    <maxVel>3</maxVel>
    <minDepth>0.00</minDepth>
  </gazebo>
  <gazebo reference="rr_foot_heel">
    <mu1>1.5</mu1>
    <mu2>2.5</mu2>
    <self_collide>1</self_collide>
    <kp value="1000000.0"/>
    <kd value="100.0"/>
    <maxVel>3</maxVel>
    <minDepth>0.00</minDepth>
  </gazebo>

  <!-- 仿真插件 -->
  <gazebo>
    <plugin name="gazebo_shm_interface" filename="libgazebo_sim_shm_interface.so">
      <!-- IMU配置 gazebo中fixed连接的link都只能获取第一个-->
      <imu>
        <frame_id>dummy_link</frame_id>
      </imu>
      
      <!-- 关节配置 -->
      <joints>
        <!-- 左腿关节 -->
        <joint><name>leg_l1_joint</name></joint>
        <joint><name>leg_l2_joint</name></joint>
        <joint><name>leg_l3_joint</name></joint>
        <joint><name>leg_l4_joint</name></joint>
        <joint><name>leg_l5_joint</name></joint>
        <joint><name>leg_l6_joint</name></joint>
        
        <!-- 右腿关节 -->
        <joint><name>leg_r1_joint</name></joint>
        <joint><name>leg_r2_joint</name></joint>
        <joint><name>leg_r3_joint</name></joint>
        <joint><name>leg_r4_joint</name></joint>
        <joint><name>leg_r5_joint</name></joint>
        <joint><name>leg_r6_joint</name></joint>
        
        <!-- 左臂关节 -->
        <joint><name>zarm_l1_joint</name></joint>
        <joint><name>zarm_l2_joint</name></joint>
        <joint><name>zarm_l3_joint</name></joint>
        <joint><name>zarm_l4_joint</name></joint>
        <joint><name>zarm_l5_joint</name></joint>
        <joint><name>zarm_l6_joint</name></joint>
        <joint><name>zarm_l7_joint</name></joint>
        
        <!-- 右臂关节 -->
        <joint><name>zarm_r1_joint</name></joint>
        <joint><name>zarm_r2_joint</name></joint>
        <joint><name>zarm_r3_joint</name></joint>
        <joint><name>zarm_r4_joint</name></joint>
        <joint><name>zarm_r5_joint</name></joint>
        <joint><name>zarm_r6_joint</name></joint>
        <joint><name>zarm_r7_joint</name></joint>
        
        <!-- 头部关节 -->
        <joint><name>zhead_1_joint</name></joint>
        <joint><name>zhead_2_joint</name></joint>
      </joints>
      
      <!-- 接触传感器配置 -->
      <contacts>
        <contact><link>ll_foot_toe</link></contact>
        <contact><link>ll_foot_heel</link></contact>
        <contact><link>lr_foot_toe</link></contact>
        <contact><link>lr_foot_heel</link></contact>
        <contact><link>rl_foot_toe</link></contact>
        <contact><link>rl_foot_heel</link></contact>
        <contact><link>rr_foot_toe</link></contact>
        <contact><link>rr_foot_heel</link></contact>
      </contacts>
      </plugin>
  </gazebo>

</robot>
